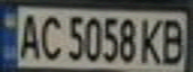0: (81, 12, 103, 63)
5: (63, 11, 84, 62), (100, 14, 121, 63)
8: (118, 15, 139, 64)
A: (15, 10, 42, 61)
B: (157, 16, 190, 65)
C: (36, 11, 63, 62)
K: (136, 15, 166, 65)
